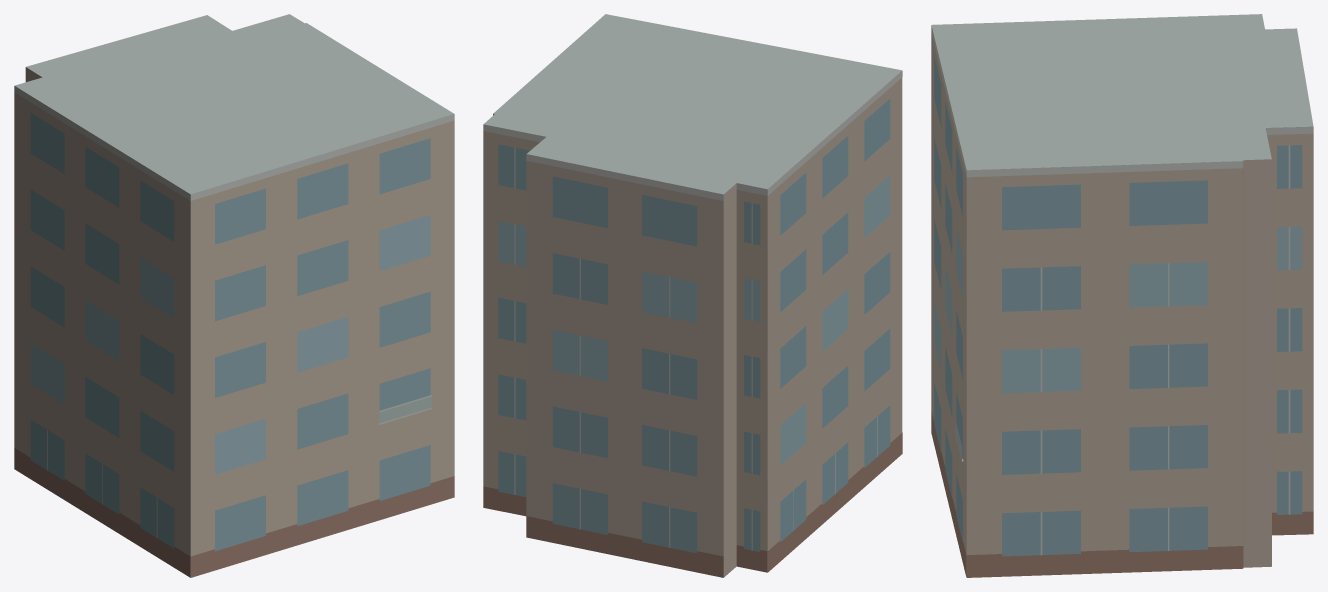
File: survey-upis-32649829.glb
3 views of the same model, side by side, from view 1: azimuth 30°, elevation 25°; view 2: azimuth 150°, elevation 25°; view 3: azimuth 270°, elevation 25° (orthographic). The views are drawn at different scales.
Visible parts, largest first — view 1: survey-upis-32649829.tmp; view 2: survey-upis-32649829.tmp; view 3: survey-upis-32649829.tmp.
Part boxes in pixels (bbox=[...]): survey-upis-32649829.tmp: bbox=[14, 14, 454, 577]; survey-upis-32649829.tmp: bbox=[483, 14, 902, 577]; survey-upis-32649829.tmp: bbox=[931, 14, 1313, 577].
Bounding box in the file's own units: 11.6 × 14.1 × 11.99.
